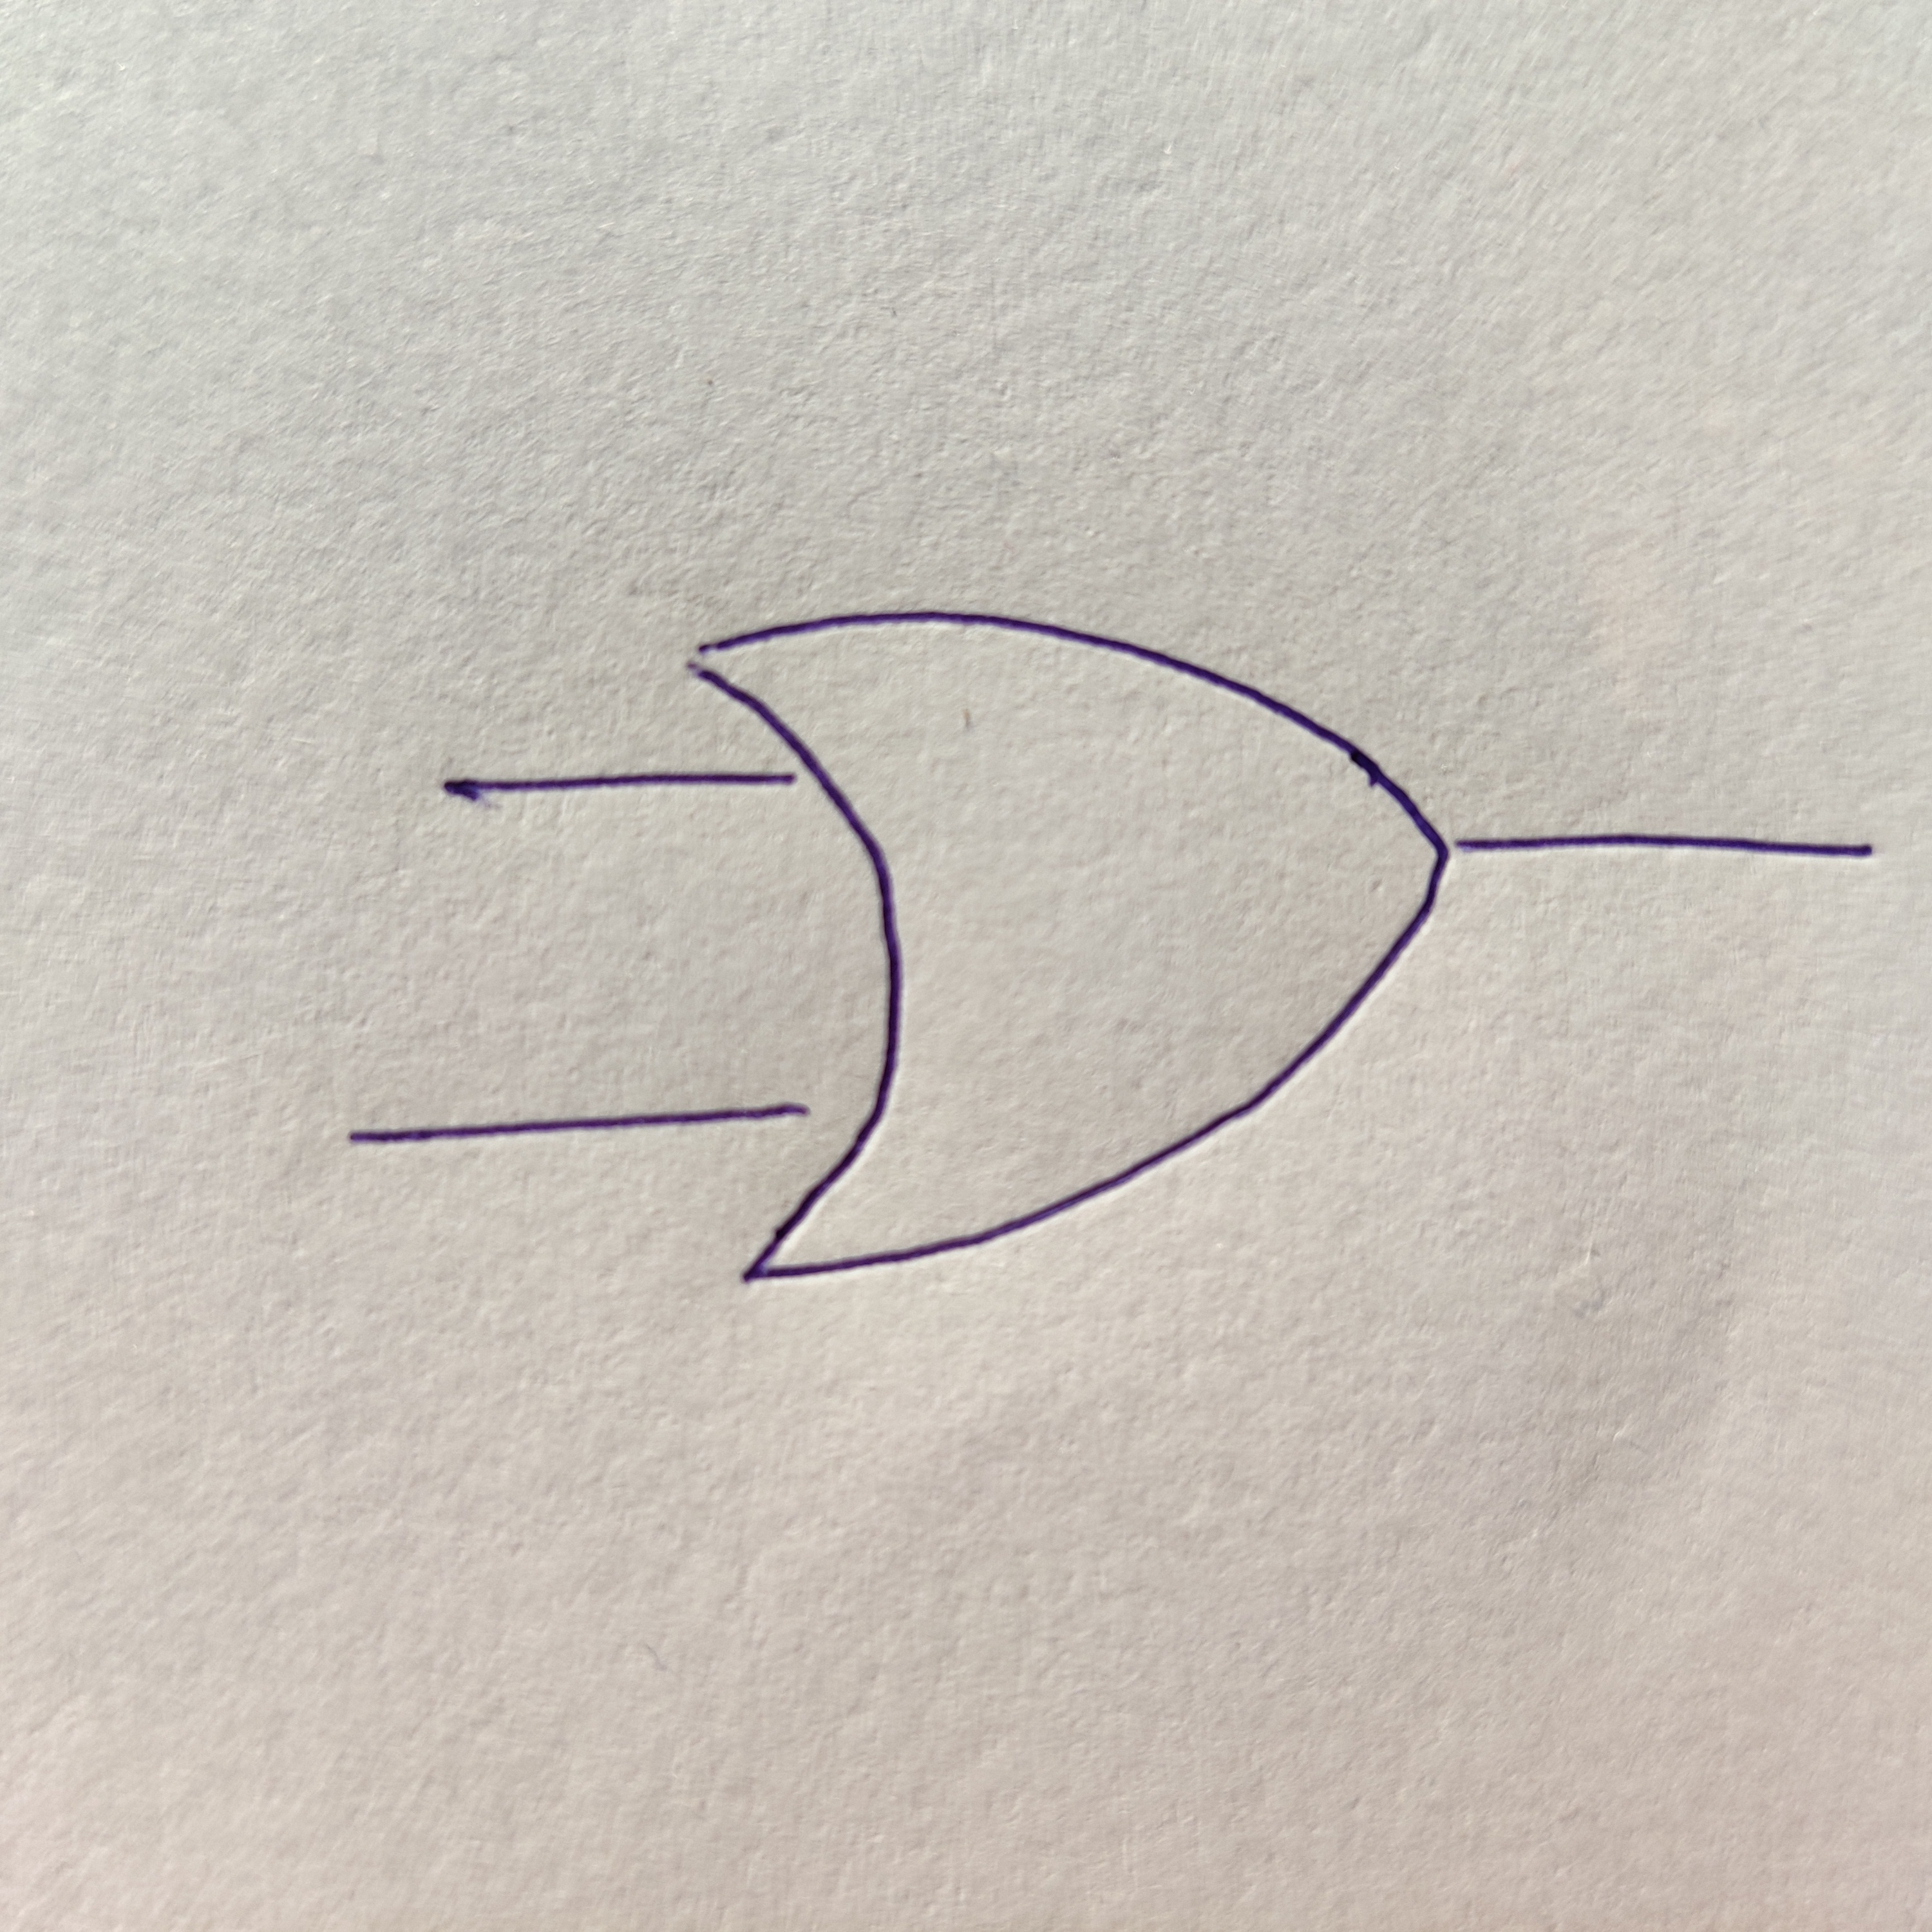or: (701, 610, 1451, 1281)
